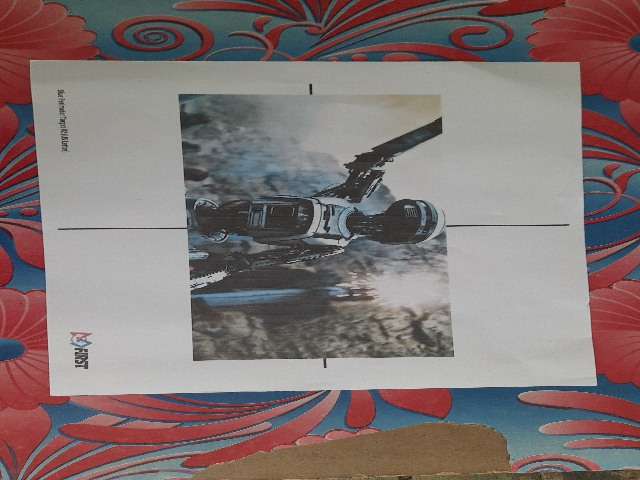bpt2: (40, 79, 560, 377)
